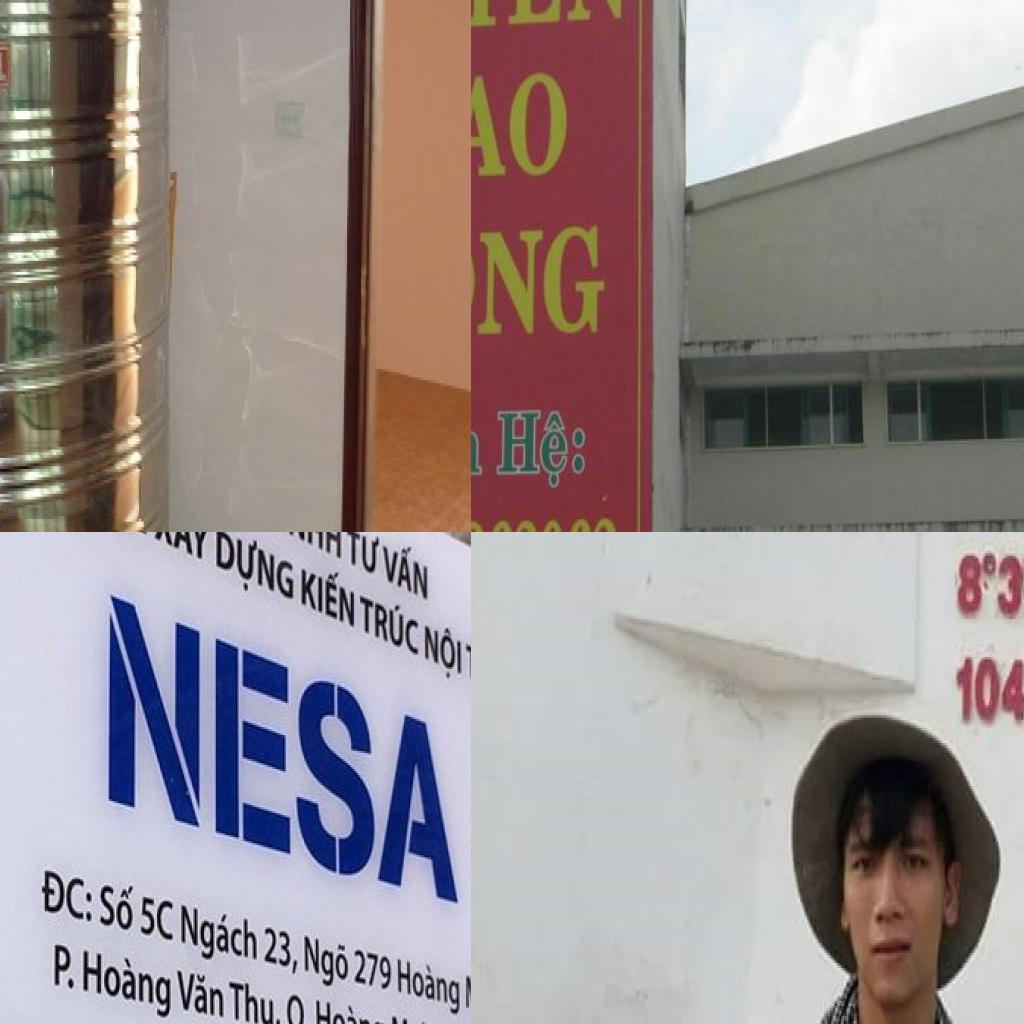text: (101, 589, 471, 915), (471, 193, 605, 375), (471, 66, 575, 186), (488, 401, 585, 492), (945, 532, 1024, 642), (79, 937, 175, 1024), (956, 639, 1024, 742), (213, 532, 298, 610), (180, 896, 260, 976), (358, 583, 420, 663), (396, 950, 464, 1020), (300, 558, 358, 630), (38, 862, 96, 928), (175, 957, 226, 1024), (382, 536, 432, 604), (302, 928, 354, 992), (424, 615, 464, 687), (226, 977, 284, 1024), (98, 874, 137, 940), (352, 942, 395, 998), (263, 920, 301, 982), (313, 993, 388, 1024), (139, 886, 177, 946), (274, 532, 345, 562), (149, 532, 216, 562), (51, 938, 81, 996), (346, 532, 382, 580), (285, 985, 313, 1024), (387, 1005, 437, 1024)
